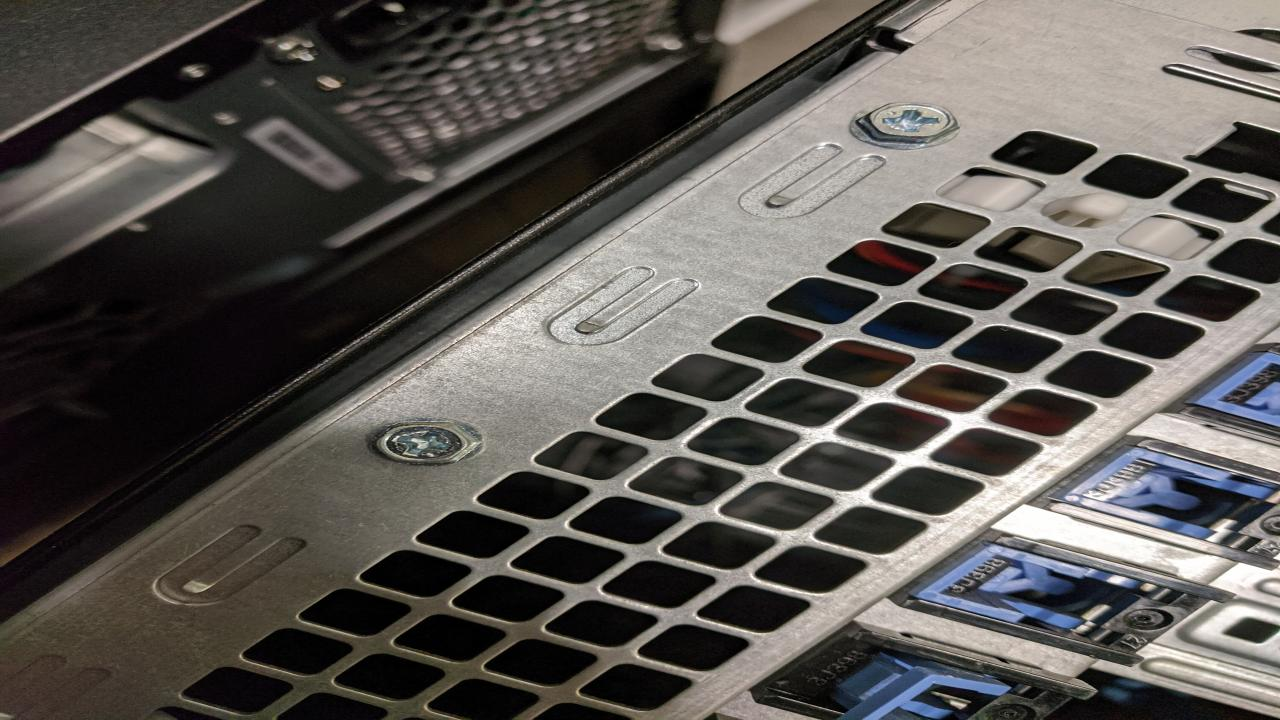CRS: (366, 420, 483, 462), (852, 104, 962, 146)
